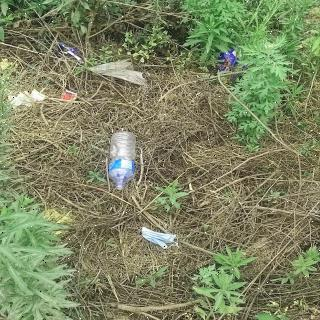Plastic-bottle: (107, 130, 139, 194)
